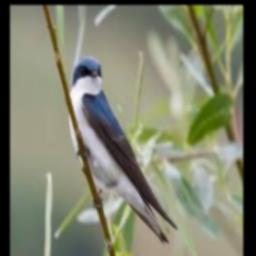Swallow: (68, 56, 178, 244)
